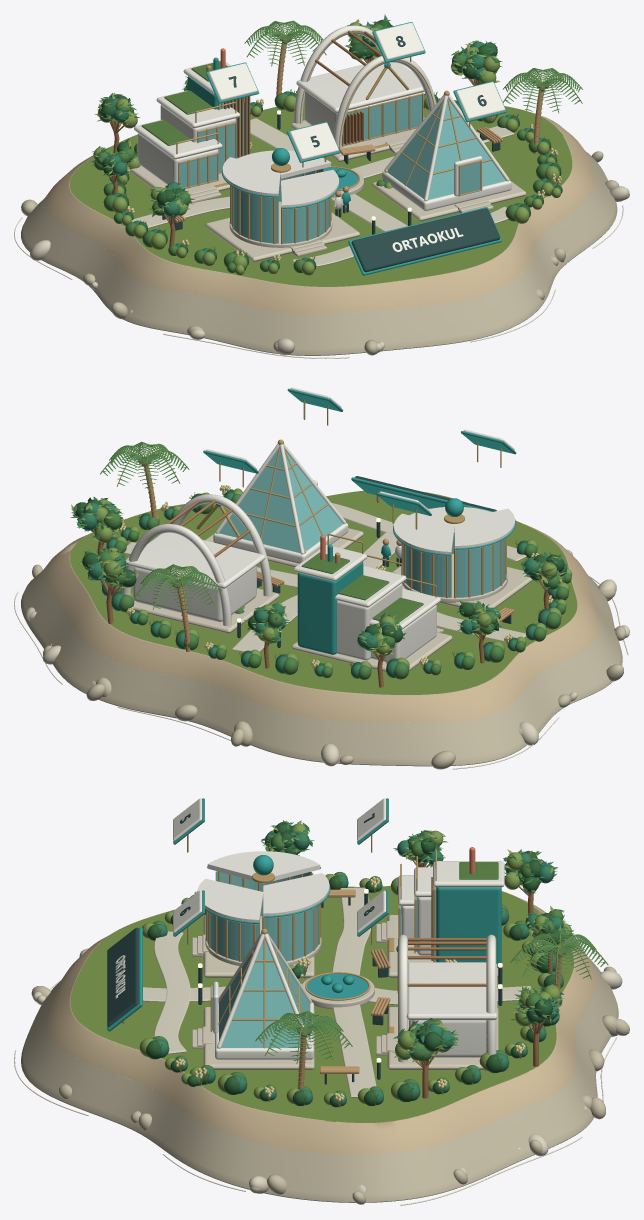
Rendered from ortaokul.glb.
The picture shows the model from 3 angles, top to bottom: view 1: azimuth 30°, elevation 25°; view 2: azimuth 150°, elevation 25°; view 3: azimuth 270°, elevation 25°; orthographic projection. The views are drawn at different scales.
Parts seen in each view (by area): view 1: static, grade|5, grade|8, grade|7, grade|6; view 2: static, grade|7, grade|8, grade|5, grade|6; view 3: static, grade|5, grade|8, grade|6, grade|7.
Part boxes in pixels (box(x1,y1,x2,y2)): static: box(14, 14, 629, 358); grade|5: box(205, 121, 359, 261); grade|8: box(291, 22, 436, 161); grade|7: box(130, 48, 258, 203); grade|6: box(372, 81, 526, 221); static: box(14, 441, 629, 769); grade|7: box(291, 491, 452, 671); grade|8: box(122, 449, 279, 633); grade|5: box(392, 429, 532, 607); grade|6: box(205, 387, 363, 567); static: box(14, 820, 629, 1205); grade|5: box(173, 798, 330, 977); grade|8: box(357, 890, 498, 1069); grade|6: box(173, 890, 314, 1069); grade|7: box(357, 798, 504, 977).
Size of the model in its own units: 19.4 by 6.51 by 17.24.
